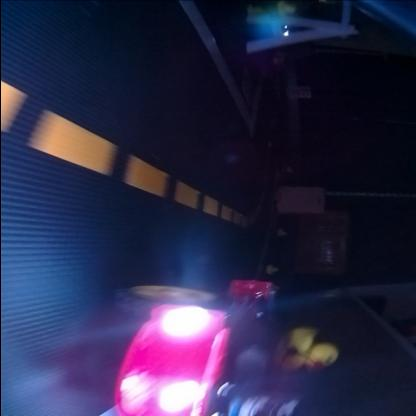Duckie: (287, 329, 338, 372)
Duckiebot: (103, 286, 252, 415)
